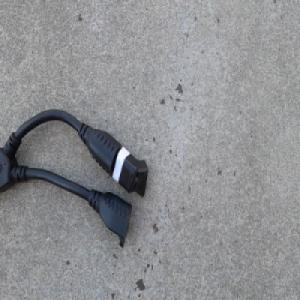Wire: (0, 106, 149, 249)
